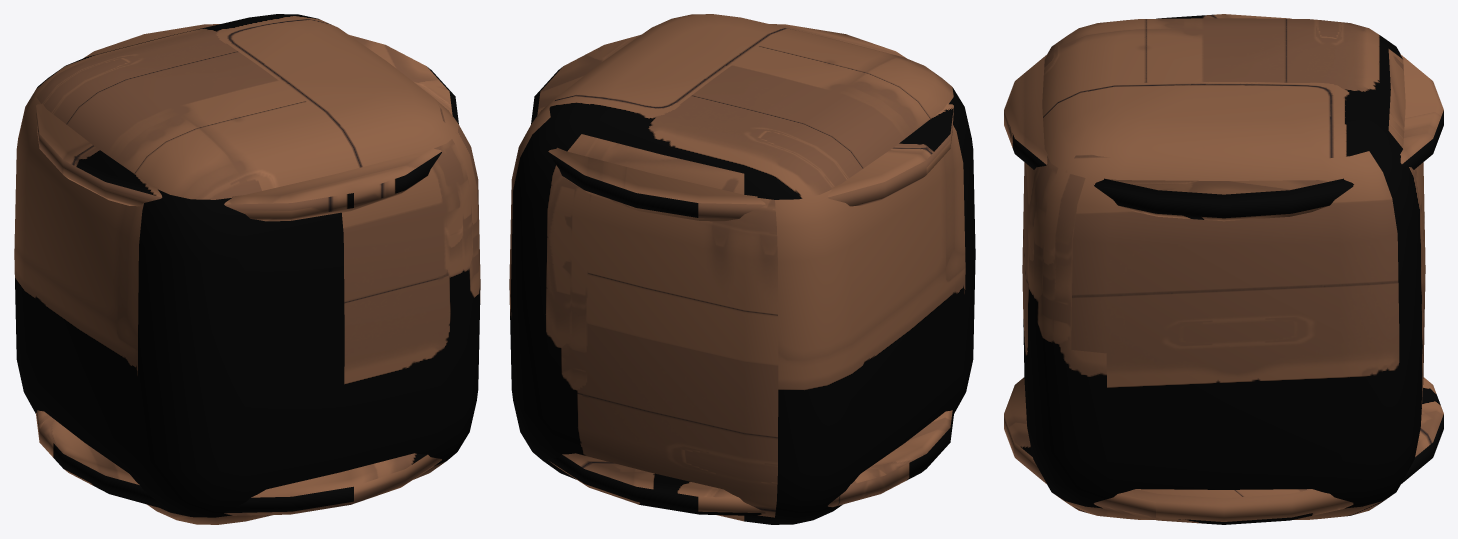
The model's file is Remache_BrazoDer.fbx.
The picture shows the model from 3 angles, left to right: view 1: azimuth 30°, elevation 25°; view 2: azimuth 150°, elevation 25°; view 3: azimuth 270°, elevation 25°; orthographic projection. The views are drawn at different scales.
Parts seen in each view (by area): view 1: Remache_BrazoDer; view 2: Remache_BrazoDer; view 3: Remache_BrazoDer.
Boxes of the visible parts, x1=… form: Remache_BrazoDer: x1=14, y1=14, x2=480, y2=524; Remache_BrazoDer: x1=509, y1=14, x2=975, y2=524; Remache_BrazoDer: x1=1004, y1=14, x2=1443, y2=524.
Size of the model in its own units: 2.14 by 2.13 by 2.14.
